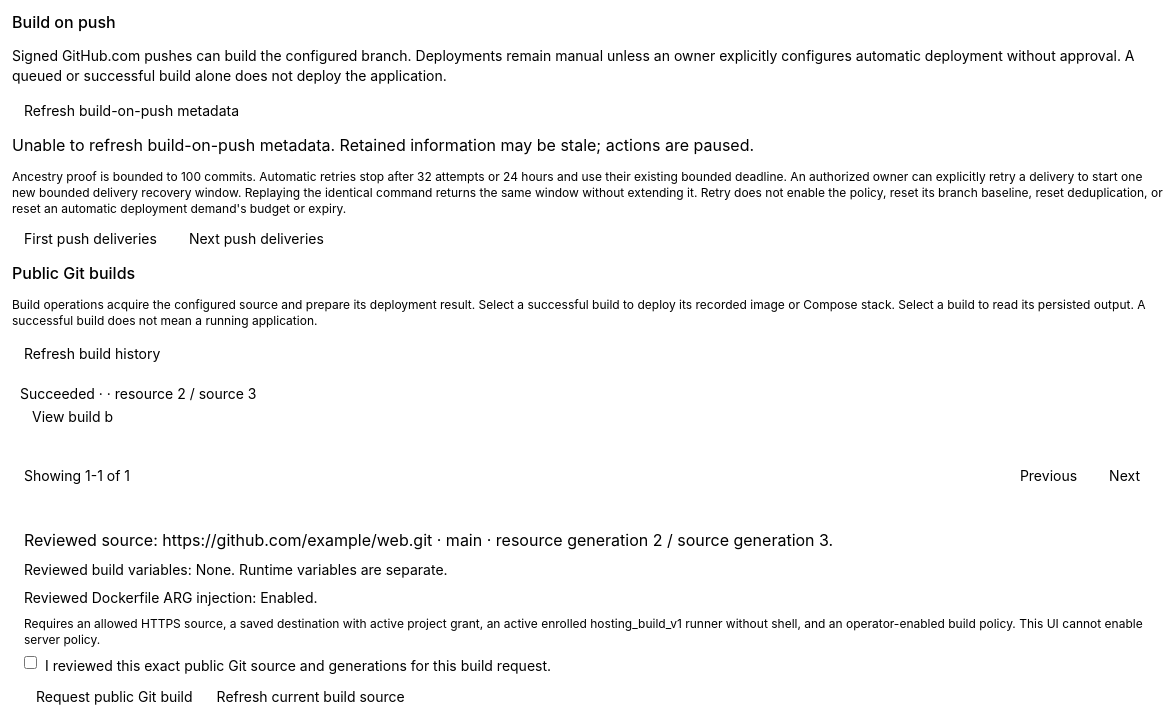
HTTP 403 preserves intent and blocks further delivery without automatic refresh/reselection
Click the button "View build b".
click(73, 417)  # box [20,407,125,427]
(page scrolled)
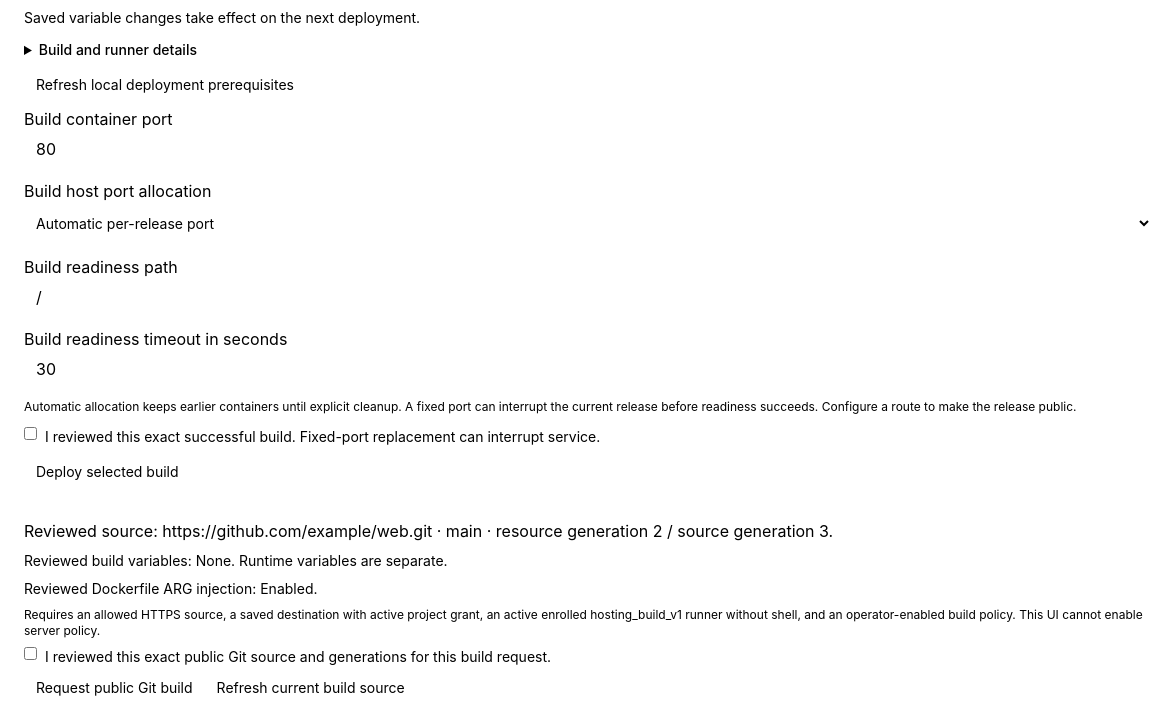
Click the checkbox labelled "I reviewed this exact successful build".
click(30, 434)  # box [24,427,37,440]
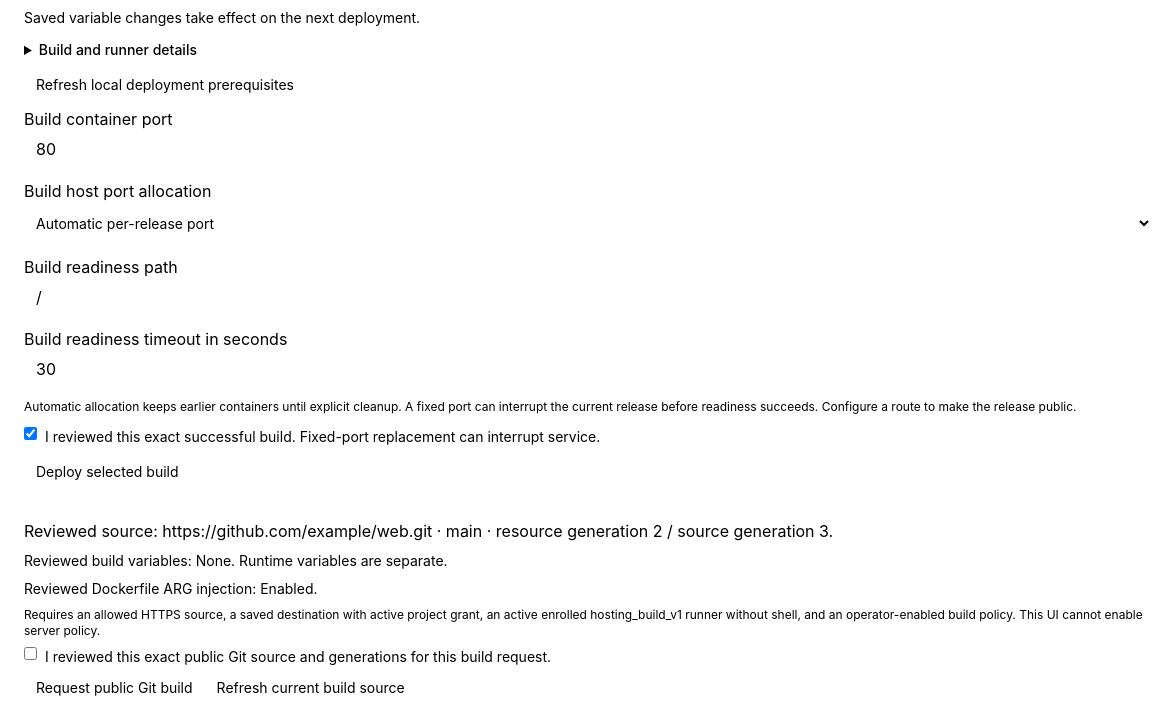
Expected: the button "Deploy selected build" is enabled, [24,462,191,482]
Submit the form named "Deploy selected build", box [24,107,1152,483]
(page scrolled)
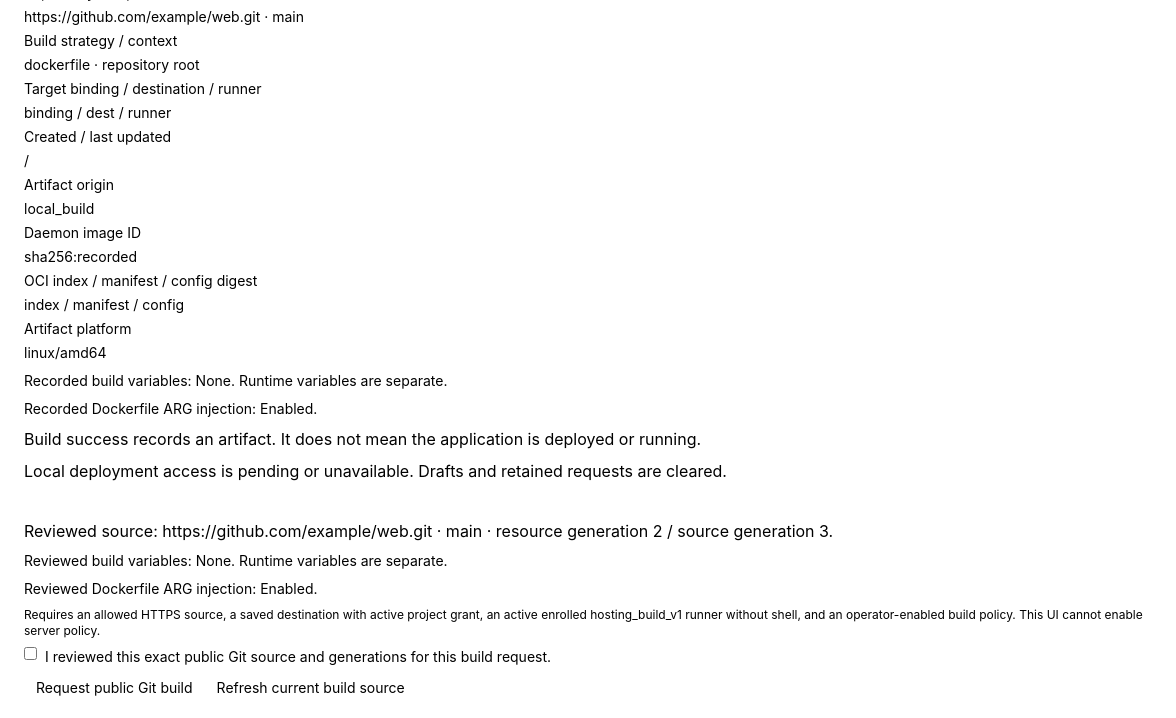
Now the text "Local deployment access is pending or unavailable" is shown, box [24,461,727,481]
Now the button "Deploy selected build" is gone
